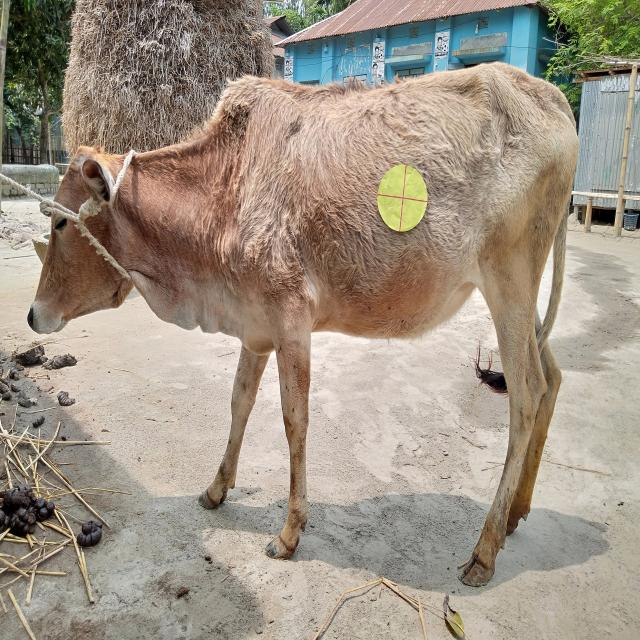badan_sapi: (235, 84, 575, 340)
sapi: (25, 62, 600, 593)
